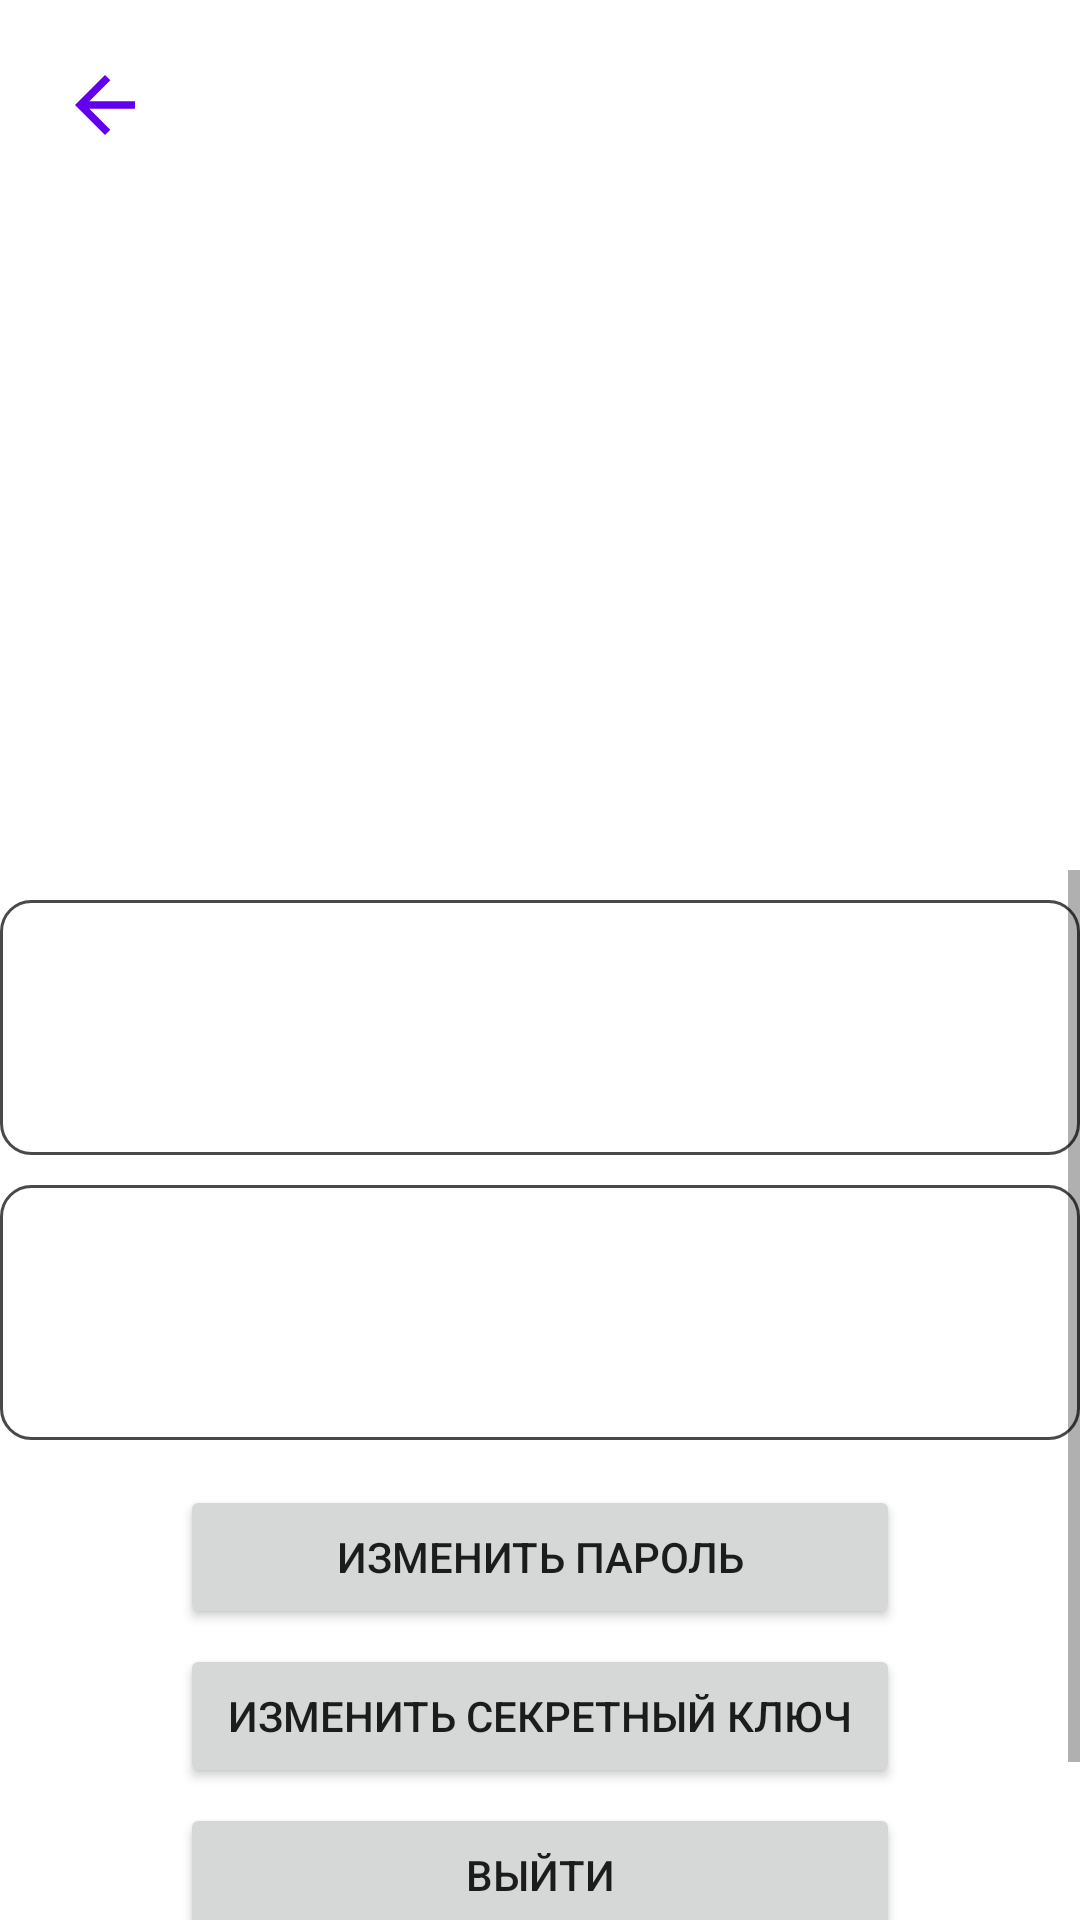

Screen size 1080px×1920px. Icon name, then its box in pixels as (x1,y1,x2,y2):
back: (75,75,135,135)
